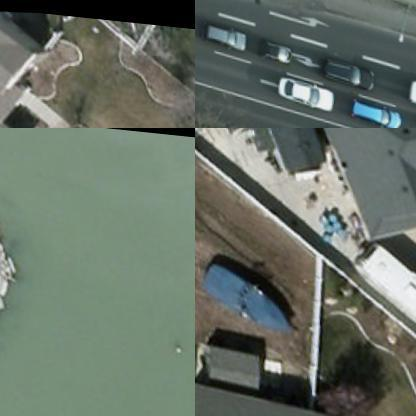boat: (195, 251, 305, 347)
camping car: (339, 227, 415, 350)
car: (274, 64, 336, 112), (322, 42, 381, 90), (347, 85, 405, 125), (201, 17, 252, 50), (262, 29, 297, 65)
